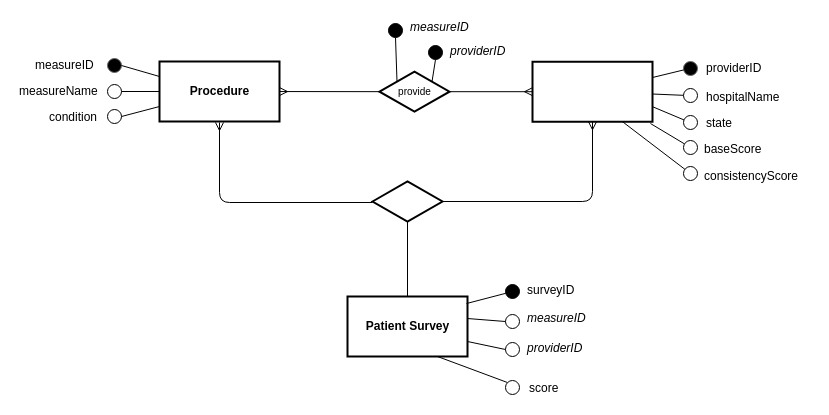
This 829x415 diagram has some shape labels left out. The centre of each missing label's shape, as x and y in pixels:
"assess" goes at (407,201).
"Hospital" goes at (592,91).
